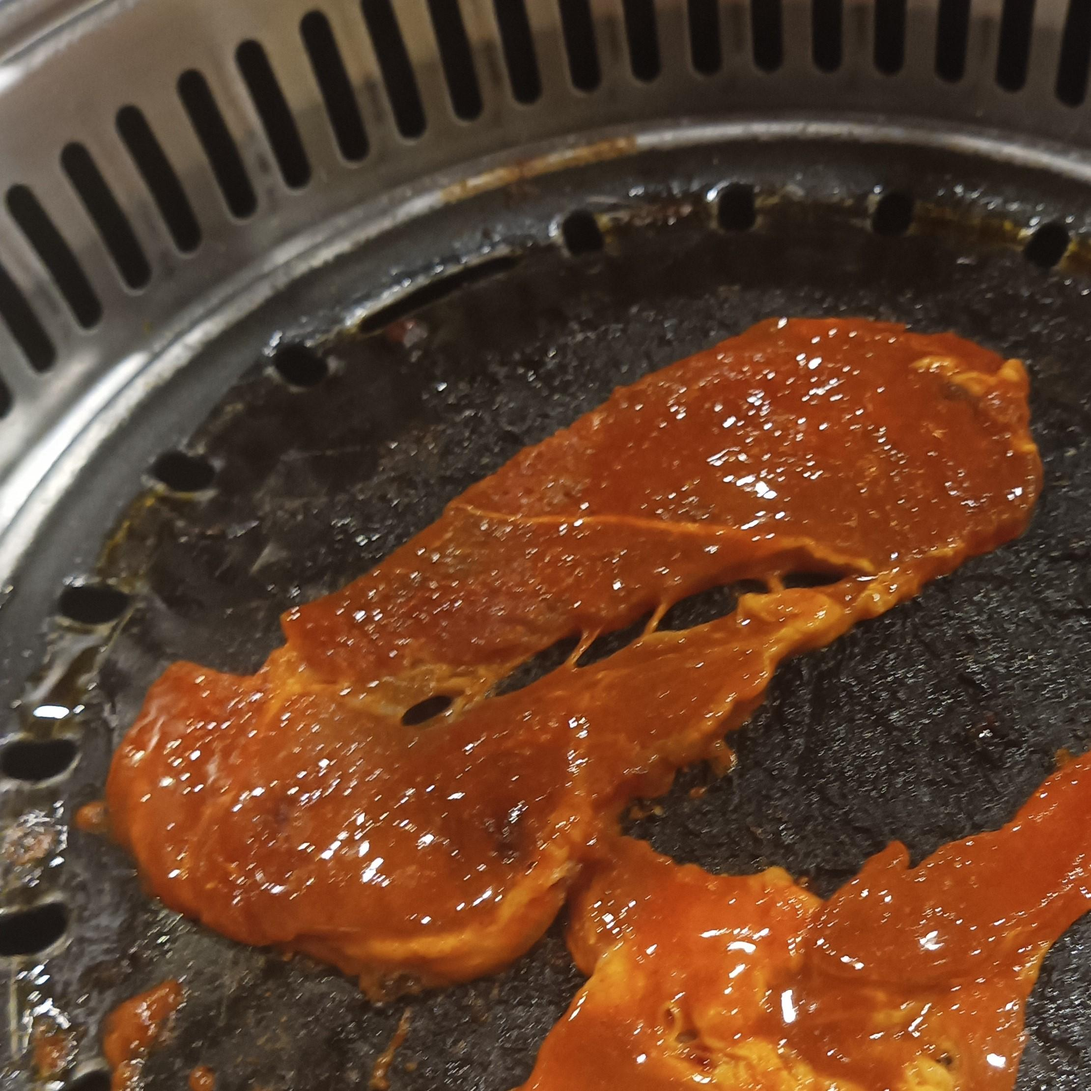Undercooked: (102, 317, 1044, 1013), (521, 766, 1091, 1091)
